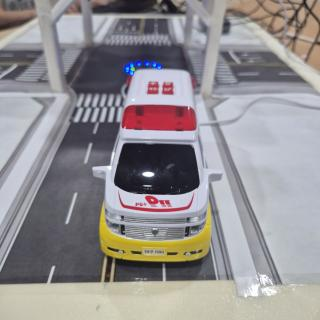Ambulance: (92, 69, 222, 262)
